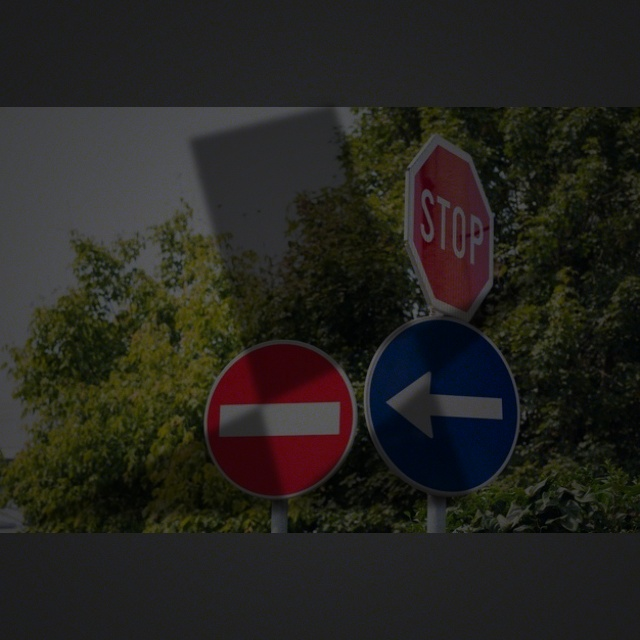Compulsory_Turn_Left: (366, 312, 522, 499)
